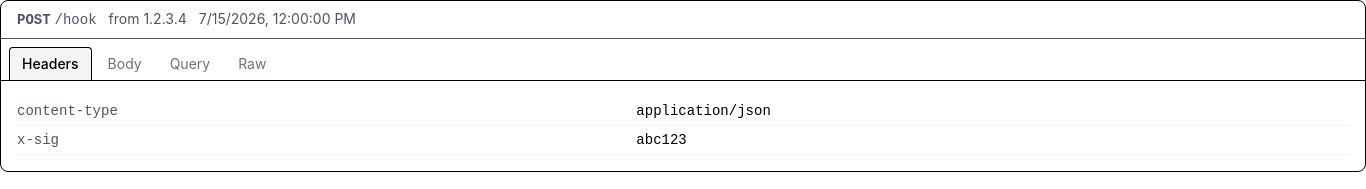
Test: RequestDetail › shows query params on query tab
Click the button "Query". click: (190, 64)
box: [158, 47, 222, 80]
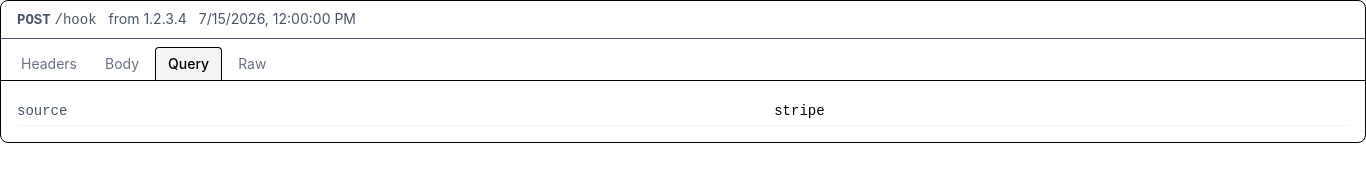
Now the text "source" is shown, box [17, 97, 774, 126]
Now the text "stripe" is shown, box [774, 97, 1349, 126]
